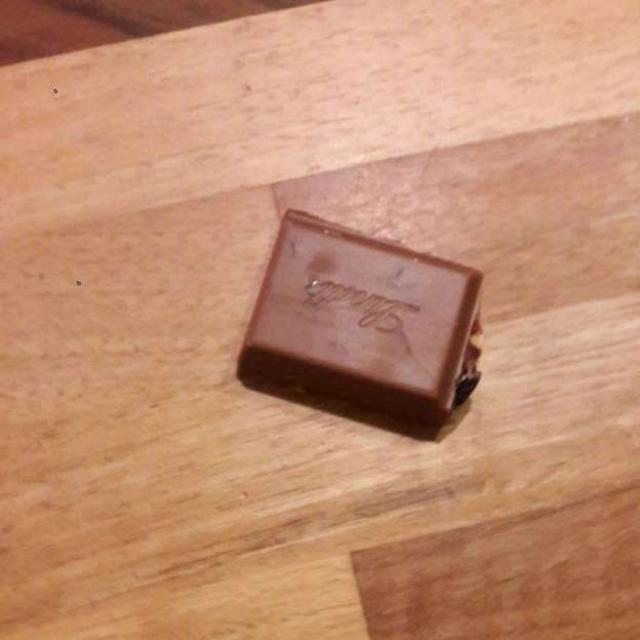chocolate: (254, 213, 479, 419)
